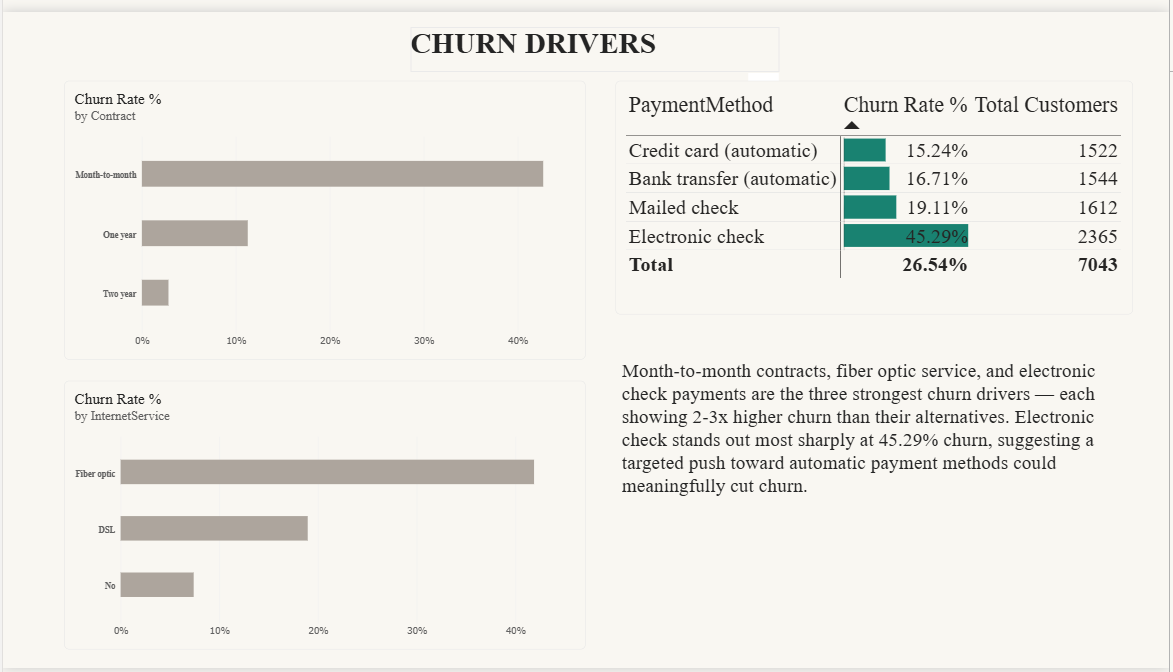

The dashboard page shown, as its layout file describes it:
{"tool":"powerbi","page":{"name":"Churn Drivers","canvas":[1920,1080],"ordinal":1},"visuals":[{"type":"textbox","box":[671,24.7,607.2,74.1],"z":0},{"type":"barChart","fields":{"Category":["cleaned_telco_churn.Contract"],"Y":["cleaned_telco_churn.Churn Rate %"]},"box":[100.9,113.2,858.3,459],"z":1},{"type":"barChart","fields":{"Category":["cleaned_telco_churn.InternetService"],"Y":["cleaned_telco_churn.Churn Rate %"]},"box":[100.9,607.2,858.3,442.5],"z":2},{"type":"pivotTable","fields":{"Rows":["cleaned_telco_churn.PaymentMethod"],"Values":["cleaned_telco_churn.Churn Rate %","cohort_summary.Total Customers"]},"box":[1008.6,113.2,852.1,384.9],"z":3},{"type":"textbox","box":[1018.9,572.2,831.6,273.8],"z":4}]}

Visuals, with their boxes in screenshot pixels (x1, y1, x2, y2), scaled from the page's 1920x1080 canvas onto the 1173x672 screenshot:
textbox: 410/15/781/61
barChart - cleaned_telco_churn.Contract x cleaned_telco_churn.Churn Rate %: 62/70/586/356
barChart - cleaned_telco_churn.InternetService x cleaned_telco_churn.Churn Rate %: 62/378/586/653
pivotTable - cleaned_telco_churn.PaymentMethod x cleaned_telco_churn.Churn Rate %: 616/70/1137/310
textbox: 622/356/1131/526
